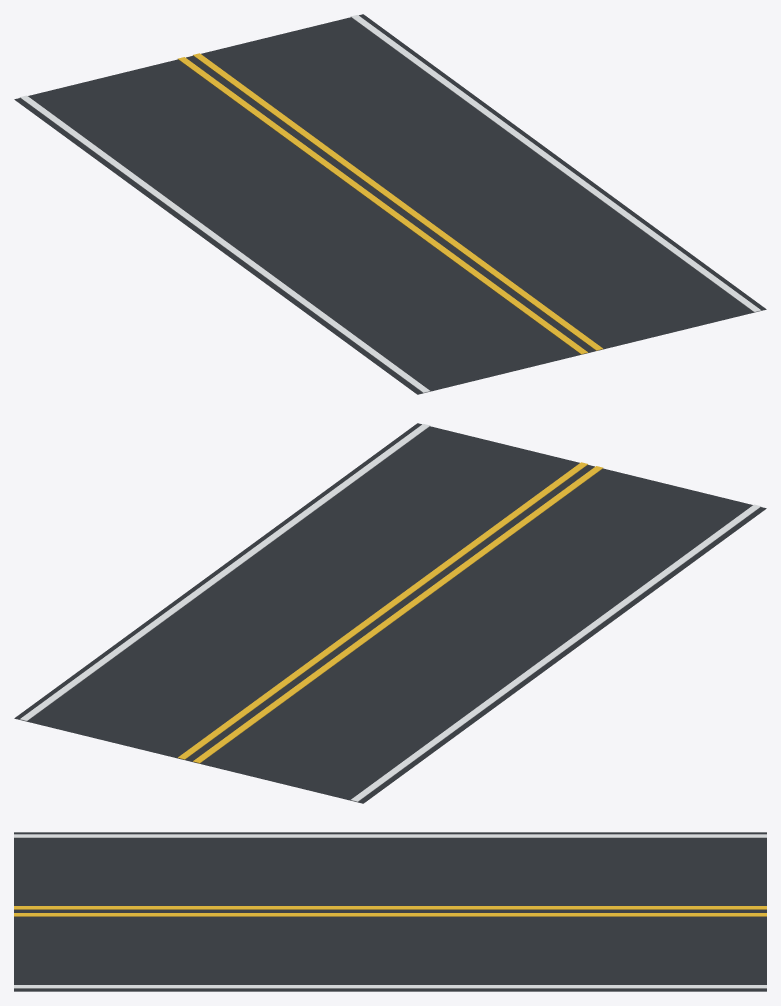
Rendered from road.glb.
3 views of the same model, one above another, from view 1: azimuth 30°, elevation 25°; view 2: azimuth 150°, elevation 25°; view 3: azimuth 270°, elevation 25° (orthographic). The views are drawn at different scales.
Visible parts, largest first — view 1: canonical; view 2: canonical; view 3: canonical.
Boxes of the visible parts, x1,y1,x2,y2 form: canonical: (14,14,766,394); canonical: (14,423,766,803); canonical: (14,832,766,991).
Bounding box in the file's own units: 6 × 0.014 × 12.
